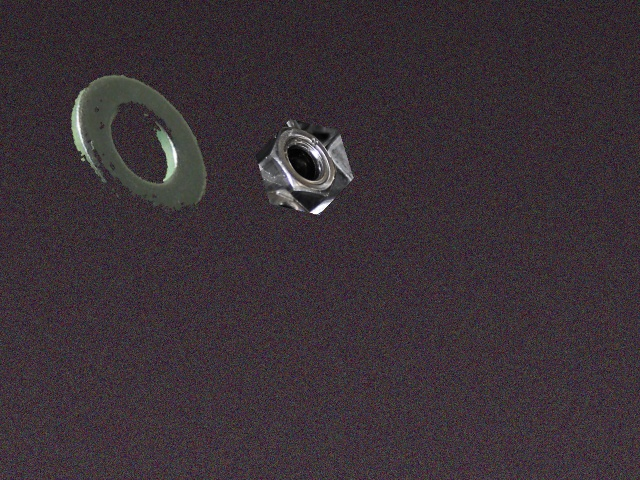nut: (255, 119, 353, 214)
washer: (71, 74, 207, 211)
